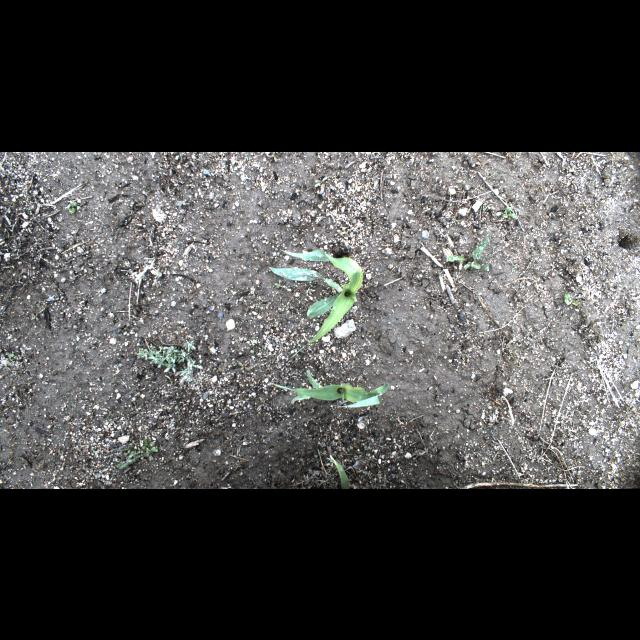crop: (268, 248, 362, 356), (268, 369, 389, 407), (326, 454, 349, 488)
weed: (137, 338, 203, 382), (448, 234, 490, 270), (118, 437, 158, 471), (66, 198, 82, 212), (563, 292, 579, 304), (502, 206, 518, 218), (4, 352, 18, 363), (237, 361, 251, 371), (274, 278, 280, 288), (250, 338, 258, 344), (314, 455, 318, 463), (346, 446, 352, 450), (250, 350, 254, 354), (284, 302, 288, 306), (15, 442, 22, 444), (389, 416, 393, 419)
